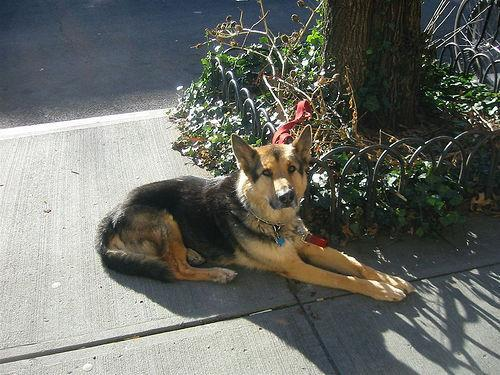German_shepherd: (93, 124, 416, 299)
